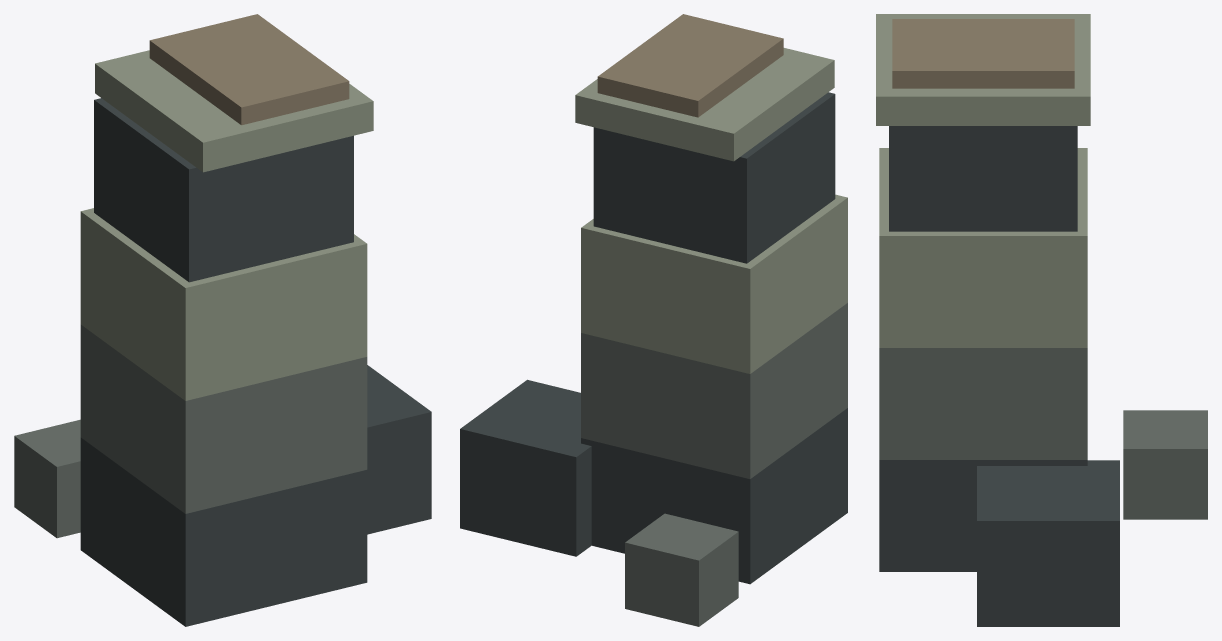
Rendered from TW_STONE_END_RUIN_B_LOD0.glb.
The picture shows the model from 3 angles, left to right: view 1: azimuth 30°, elevation 25°; view 2: azimuth 150°, elevation 25°; view 3: azimuth 270°, elevation 25°; orthographic projection. The views are drawn at different scales.
Parts seen in each view (by area): view 1: TW_STONE_END_RUIN_B_LOD0; view 2: TW_STONE_END_RUIN_B_LOD0; view 3: TW_STONE_END_RUIN_B_LOD0.
Part boxes in pixels (x1,y1,x2,y2): TW_STONE_END_RUIN_B_LOD0: (14,14,431,626); TW_STONE_END_RUIN_B_LOD0: (460,14,847,626); TW_STONE_END_RUIN_B_LOD0: (876,14,1207,626).
Size of the model in its own units: 0.53 by 0.84 by 0.51.
1 material, 1 textured.
